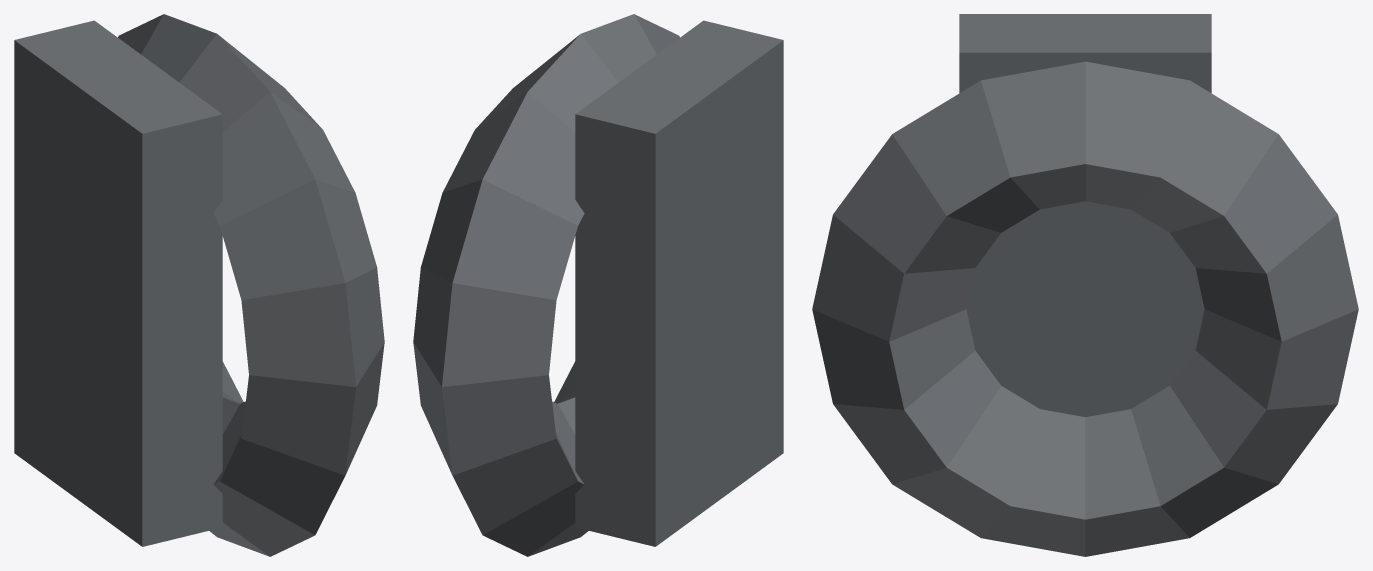
Rendered from DoorFurniture__Ring.fbx.
3 views of the same model, side by side, from view 1: azimuth 30°, elevation 25°; view 2: azimuth 150°, elevation 25°; view 3: azimuth 270°, elevation 25° (orthographic).
Parts seen in each view (by area): view 1: DoorFurniture__Ring; view 2: DoorFurniture__Ring; view 3: DoorFurniture__Ring.
Part boxes in pixels (left/top/right/bottom): DoorFurniture__Ring: left=14, top=14, right=384, bottom=556; DoorFurniture__Ring: left=413, top=14, right=783, bottom=556; DoorFurniture__Ring: left=812, top=14, right=1358, bottom=556.
Size of the model in its own units: 16.75 by 39 by 39.
1 material, 1 textured.
